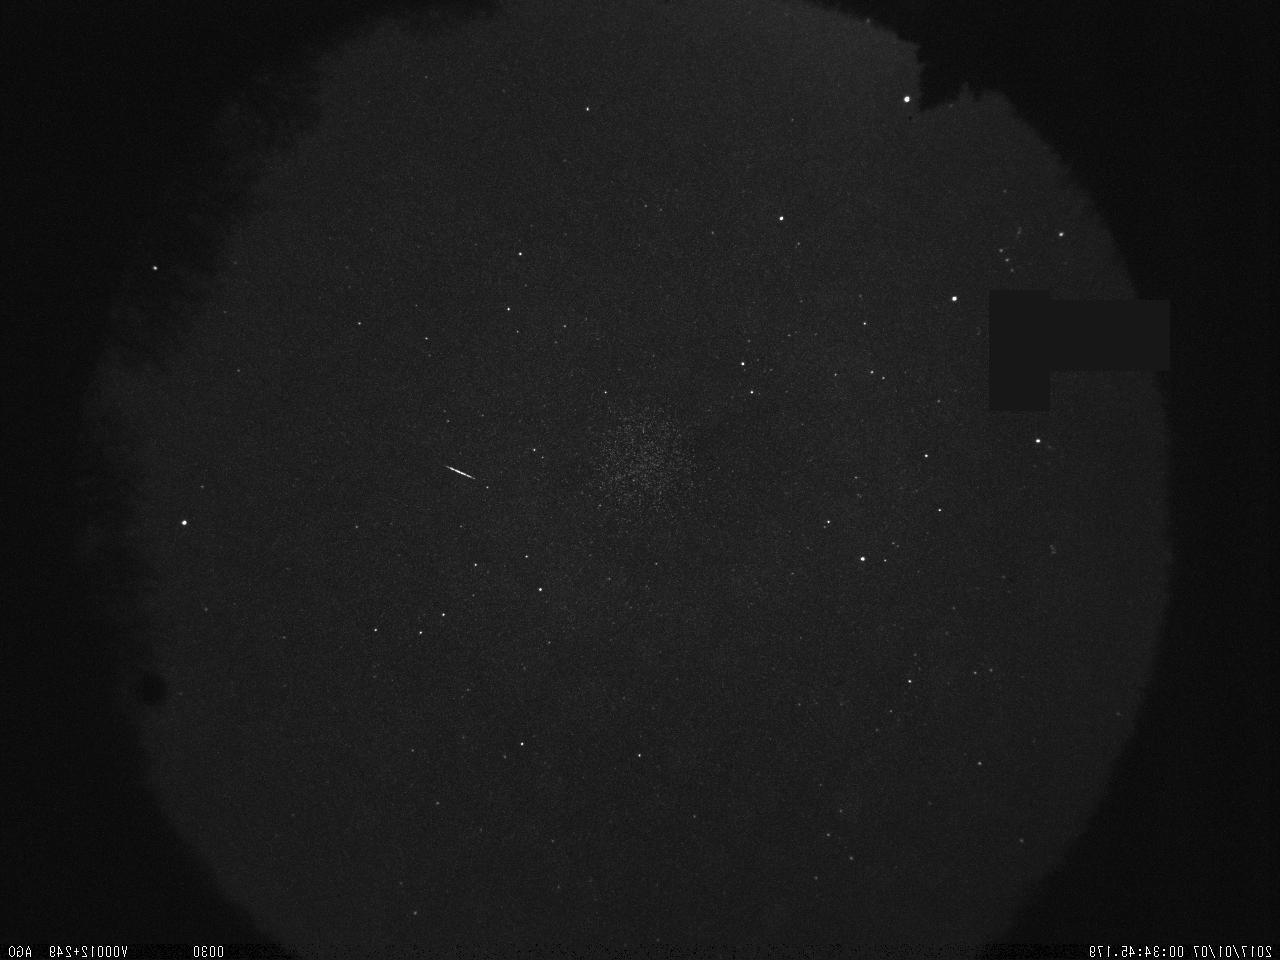meteor: (425, 451, 488, 494)
